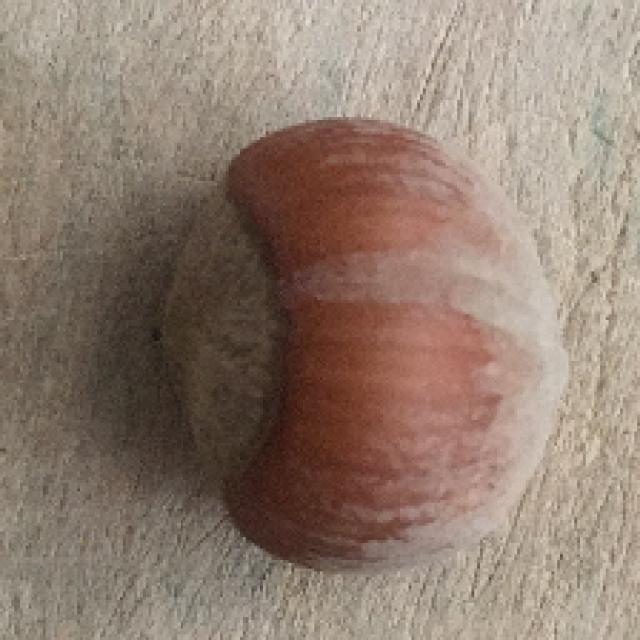qualityHazelnut: (156, 110, 567, 566)
